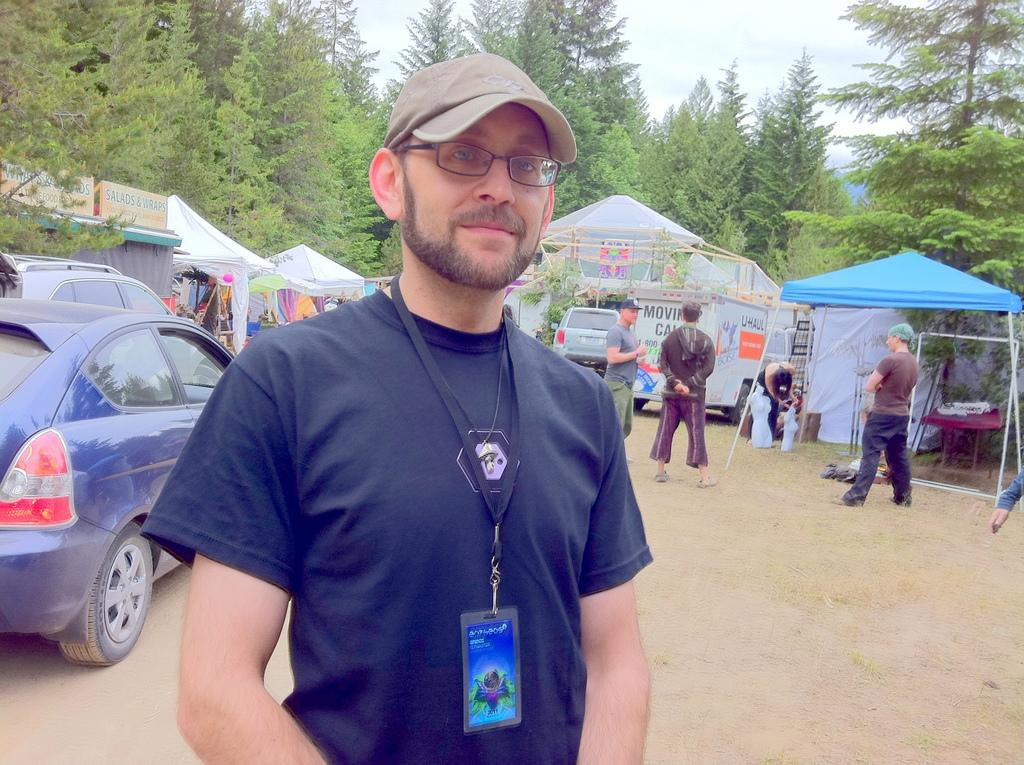Sem Máscara: (395, 102, 551, 285), (622, 307, 637, 326)
